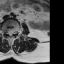CCS_stenosis: (9, 30, 11, 38)
LFS_severe_stenosis: (14, 30, 15, 35)
LLS_normal: (11, 30, 13, 36)
RFS_severe_stenosis: (5, 30, 8, 35)
RLS_normal: (8, 30, 10, 36)
